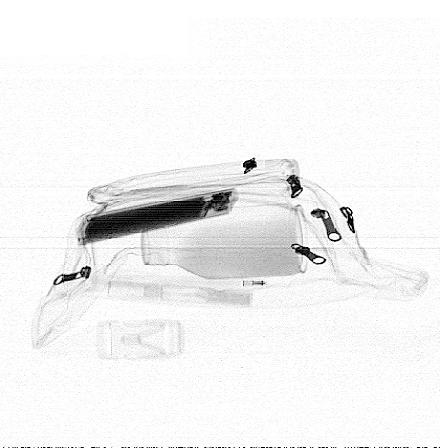Powerbank: (74, 188, 239, 247)
